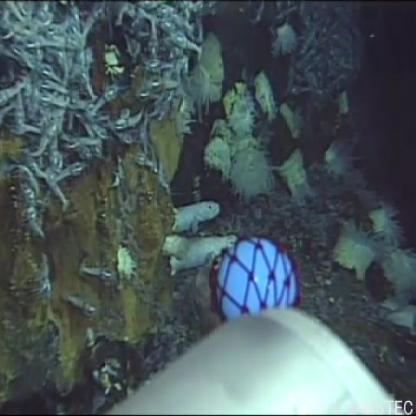Bio: (1, 1, 207, 201), (157, 198, 241, 278)
Rov: (114, 234, 405, 416)
